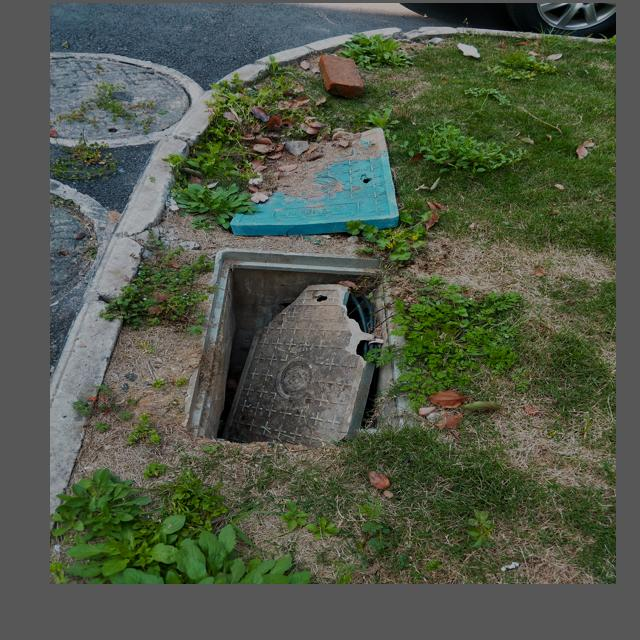broke: (173, 246, 425, 444)
